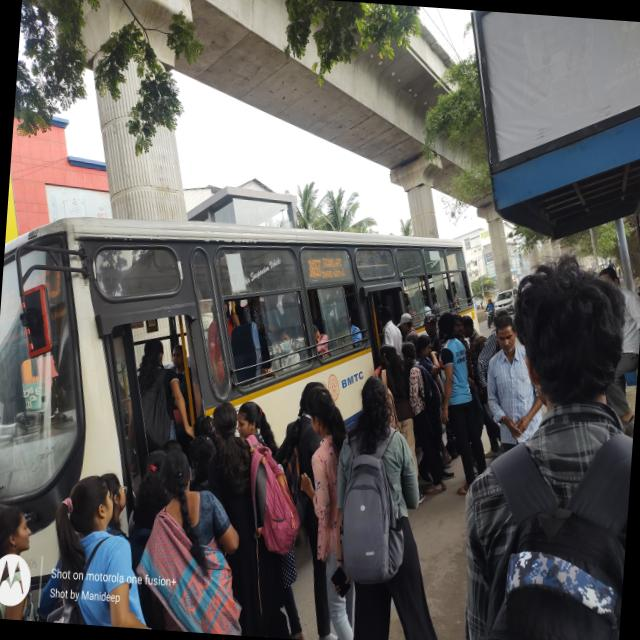bus: (0, 189, 490, 592)
display: (304, 252, 346, 283)
dnumber: (306, 257, 322, 278)
